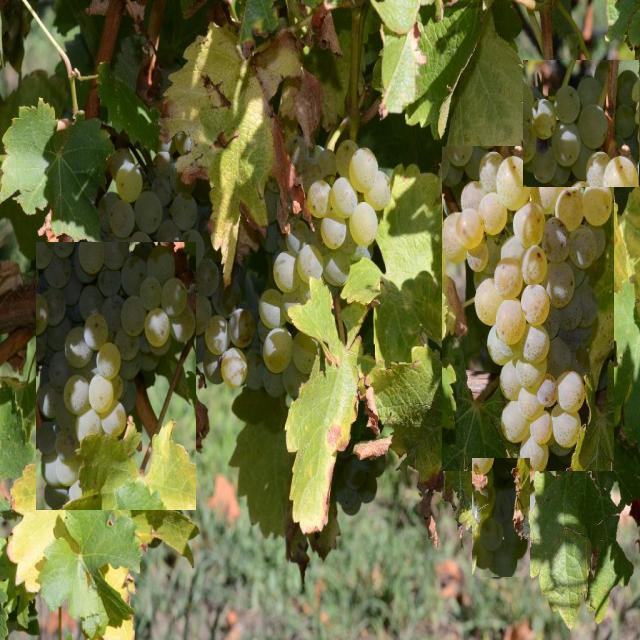Grape: (442, 146, 614, 471), (94, 131, 260, 391), (36, 242, 196, 510), (257, 134, 392, 397), (524, 60, 640, 187), (472, 458, 530, 577), (330, 398, 386, 514)
